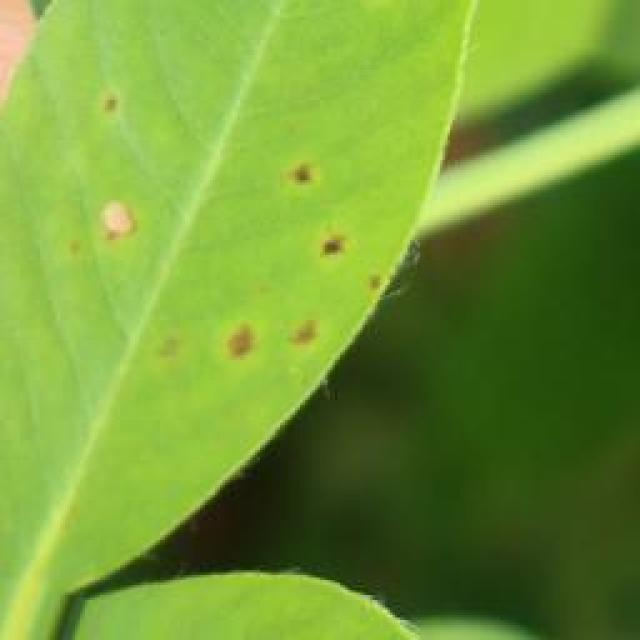Sigatoka: (278, 144, 365, 272), (196, 289, 328, 363), (48, 184, 144, 281), (84, 65, 147, 138), (348, 266, 400, 317)
